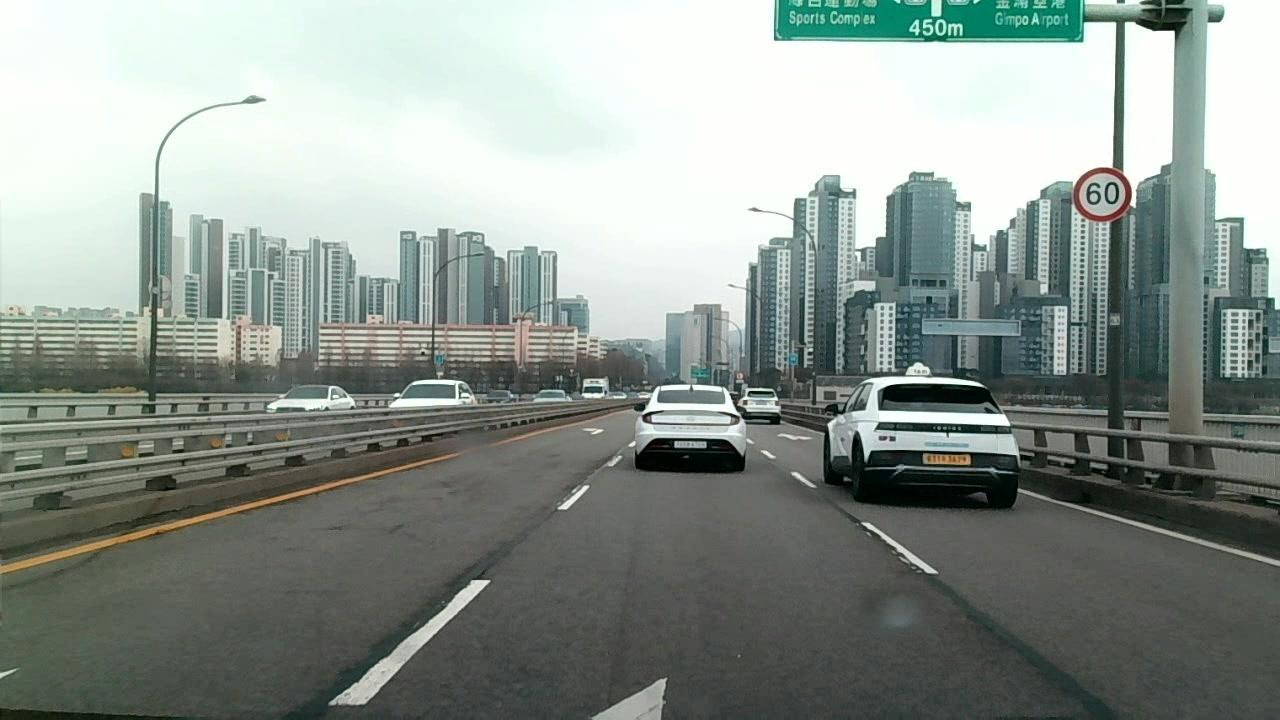vcrack: (319, 553, 501, 713), (932, 575, 1120, 720), (849, 510, 928, 575), (538, 461, 607, 523)
